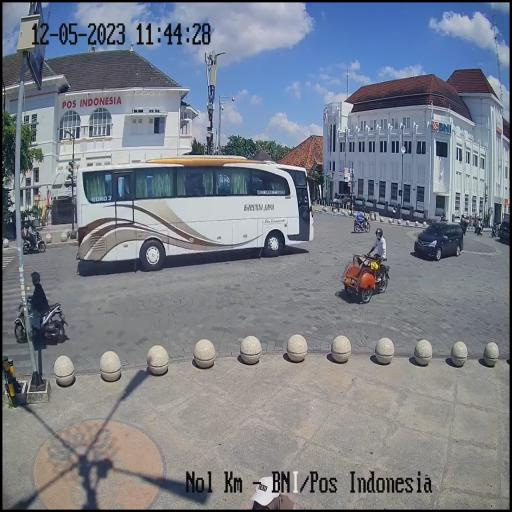mobil: (76, 154, 314, 270), (414, 220, 464, 262)
motor: (15, 290, 66, 352)
